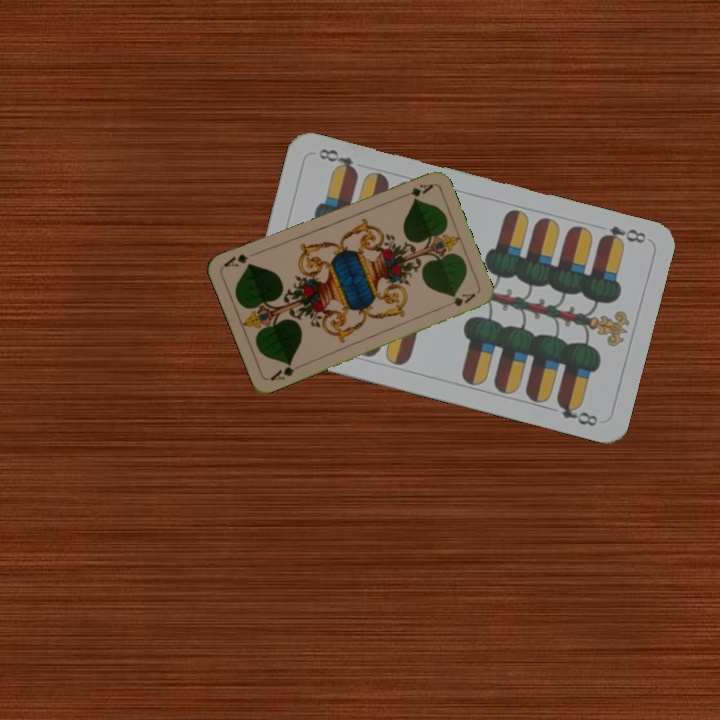E8: (595, 222, 649, 248)
GA: (266, 359, 305, 383), (396, 180, 436, 201)
